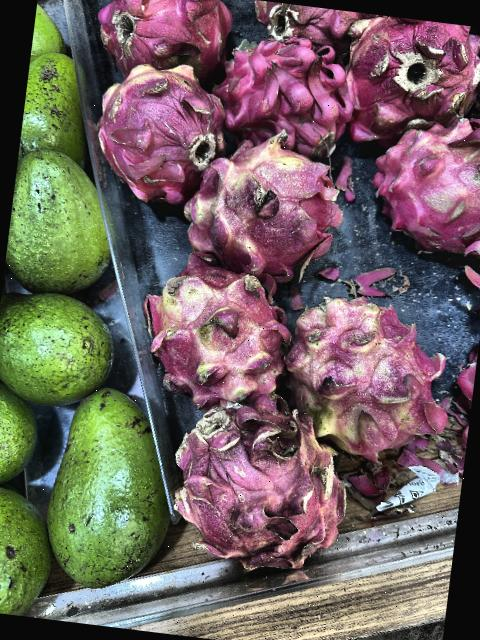buah-naga-belum-matang: (161, 399, 363, 571), (277, 285, 460, 457), (86, 45, 241, 212), (181, 136, 346, 276), (136, 258, 298, 397), (382, 122, 480, 243)
buah-naga-matang: (211, 25, 356, 148), (340, 11, 480, 136), (89, 0, 235, 72), (256, 1, 356, 52)
